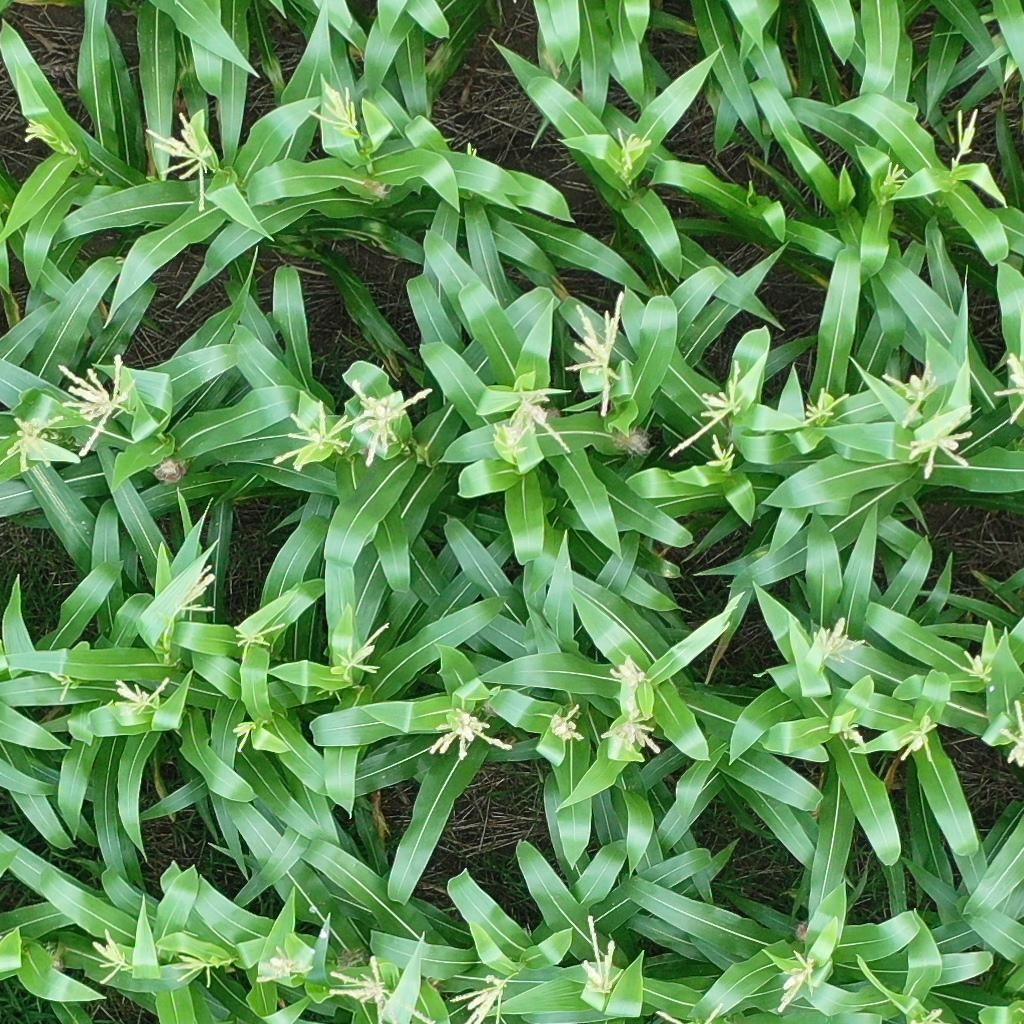Tassel: (56, 355, 142, 457), (564, 291, 632, 418), (140, 109, 221, 213), (324, 951, 438, 1024), (349, 381, 433, 468), (670, 358, 745, 453), (273, 399, 368, 469), (428, 707, 515, 769), (507, 388, 577, 453), (5, 413, 72, 476), (907, 420, 974, 481), (882, 360, 942, 428), (308, 76, 363, 150), (329, 621, 392, 682), (577, 916, 621, 997), (451, 971, 517, 1022), (172, 563, 221, 629), (87, 928, 134, 991), (814, 614, 868, 668), (601, 713, 665, 757), (992, 348, 1024, 429), (255, 943, 313, 987), (110, 677, 173, 717), (160, 950, 225, 986), (777, 948, 814, 1009), (799, 386, 851, 427), (994, 698, 1024, 766), (607, 655, 650, 702), (897, 720, 942, 763), (950, 102, 982, 162), (615, 126, 651, 178), (231, 623, 287, 654), (549, 701, 586, 742), (492, 423, 533, 457), (706, 433, 738, 471), (958, 648, 993, 682), (23, 119, 60, 150), (51, 670, 82, 705), (230, 719, 259, 755), (881, 158, 907, 192), (840, 721, 868, 751)
